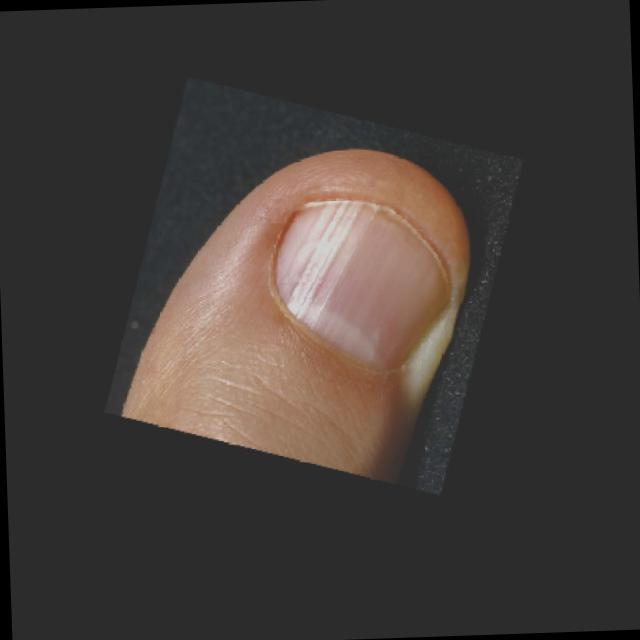Nail: (273, 197, 447, 363)
